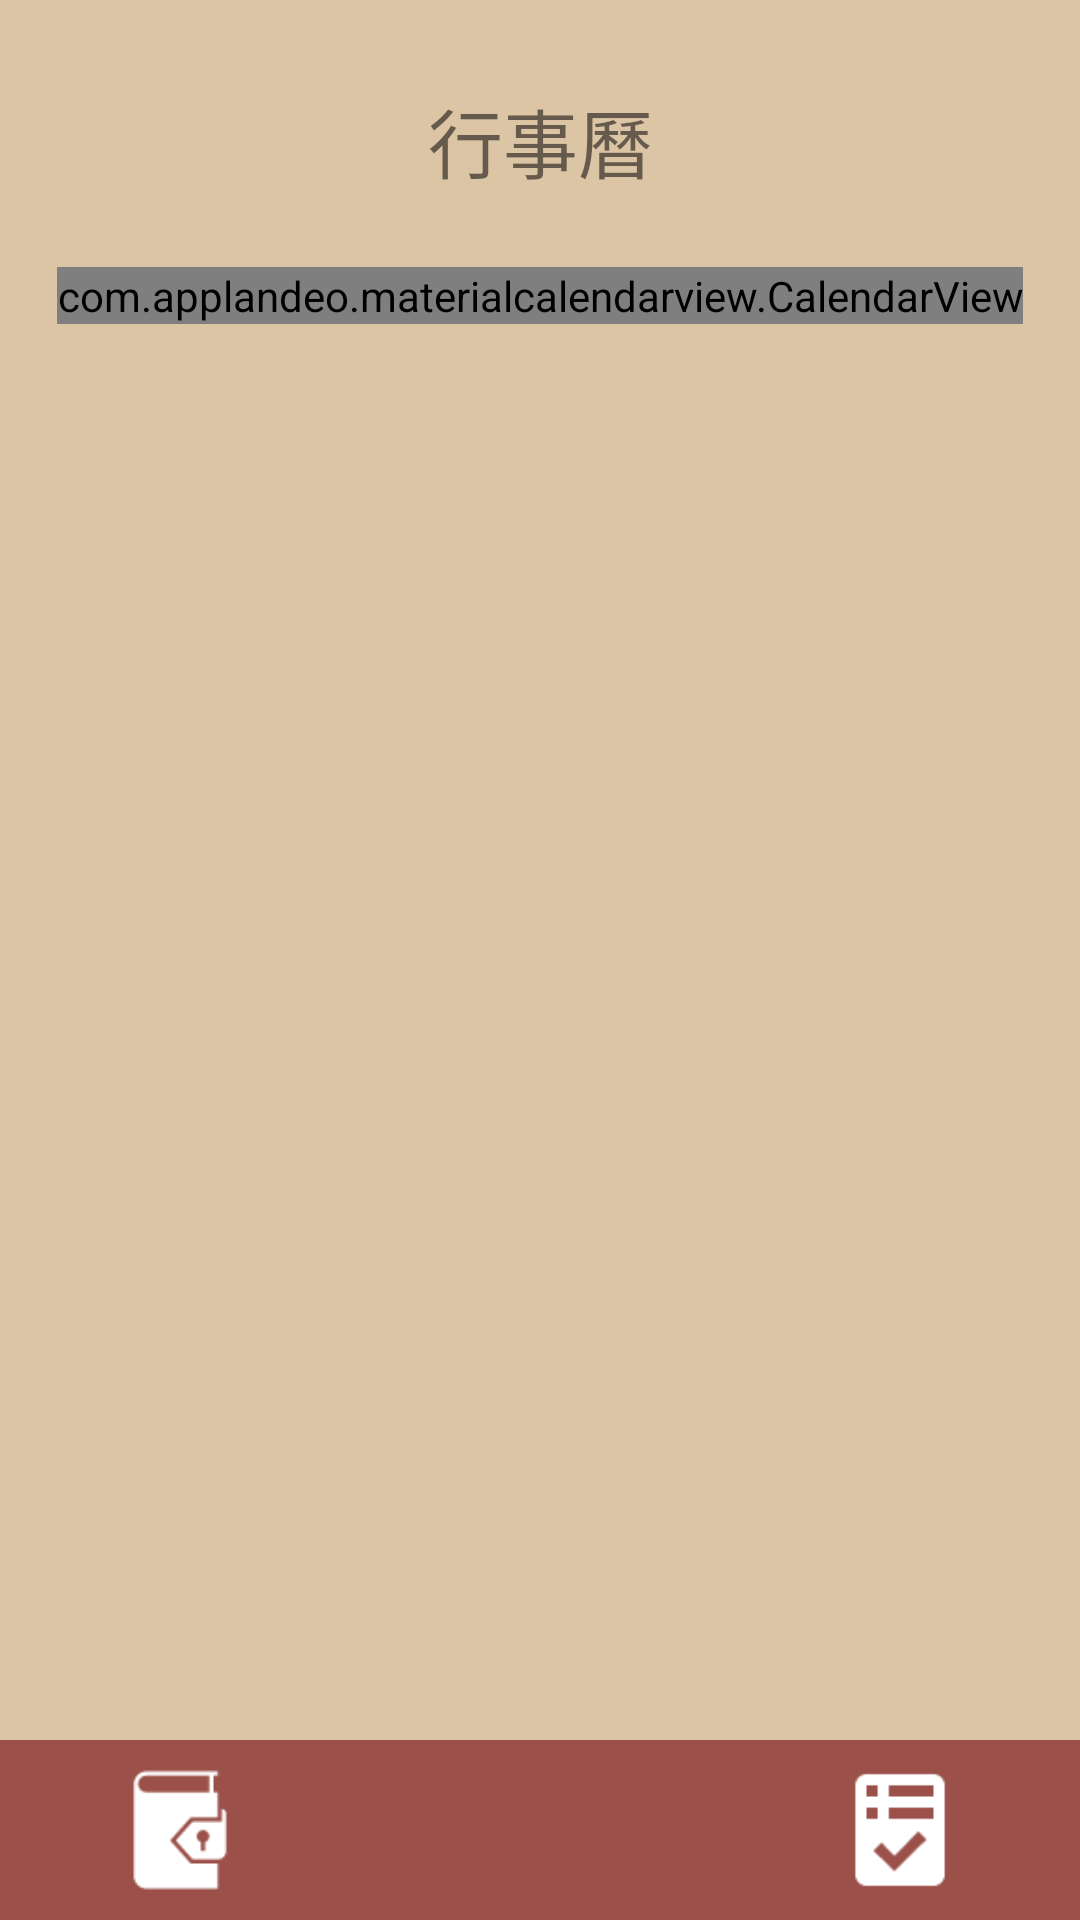

Point at icon controls on the screen. Image size 1080w x 1920h, points as point (x, y).
home diary: point (180, 1830)
home note: point (900, 1830)
